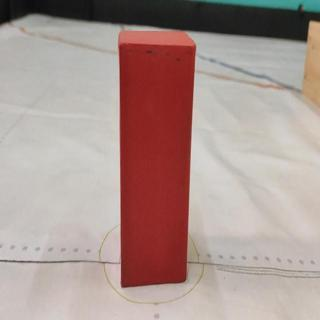redbox: (119, 31, 197, 286)
